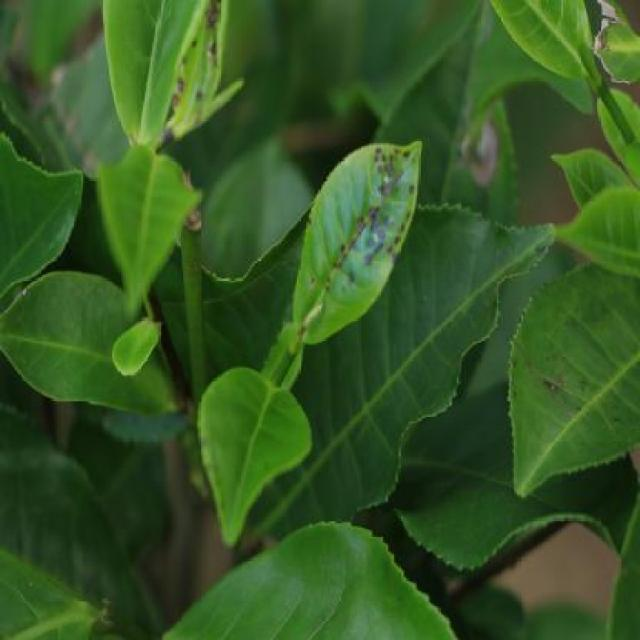Tea Mosquito bug infested leaf: (285, 130, 429, 344), (180, 0, 245, 123)
